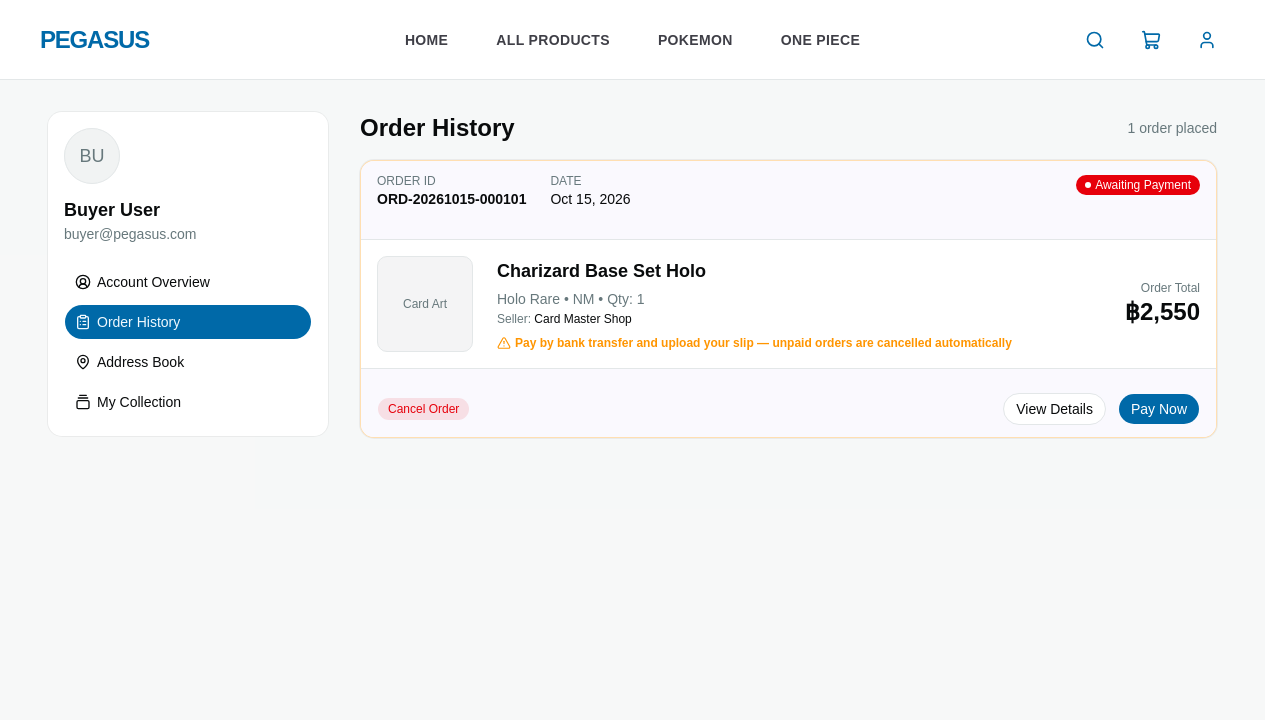
Scenario: Core Account Orders Flow › cancels a pending order with confirmation
Expected: the text "ORD-20261015-000101" is shown, [377,189,526,209]
// Click Cancel Order
Click the button "Cancel Order" at (424, 409), box [377,397,470,421]
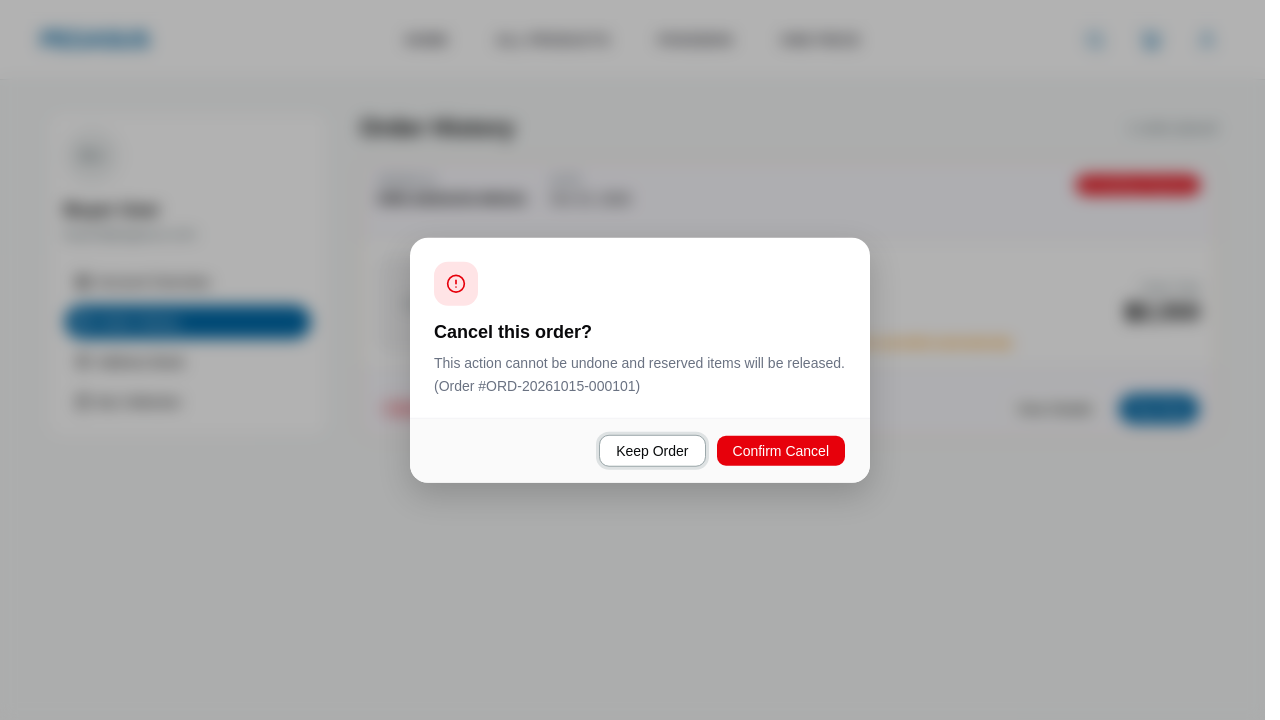
Now the heading "Cancel this order?" is shown, box [434,322,592,342]
Click the button "Confirm Cancel" at (782, 450), box [716,434,847,466]
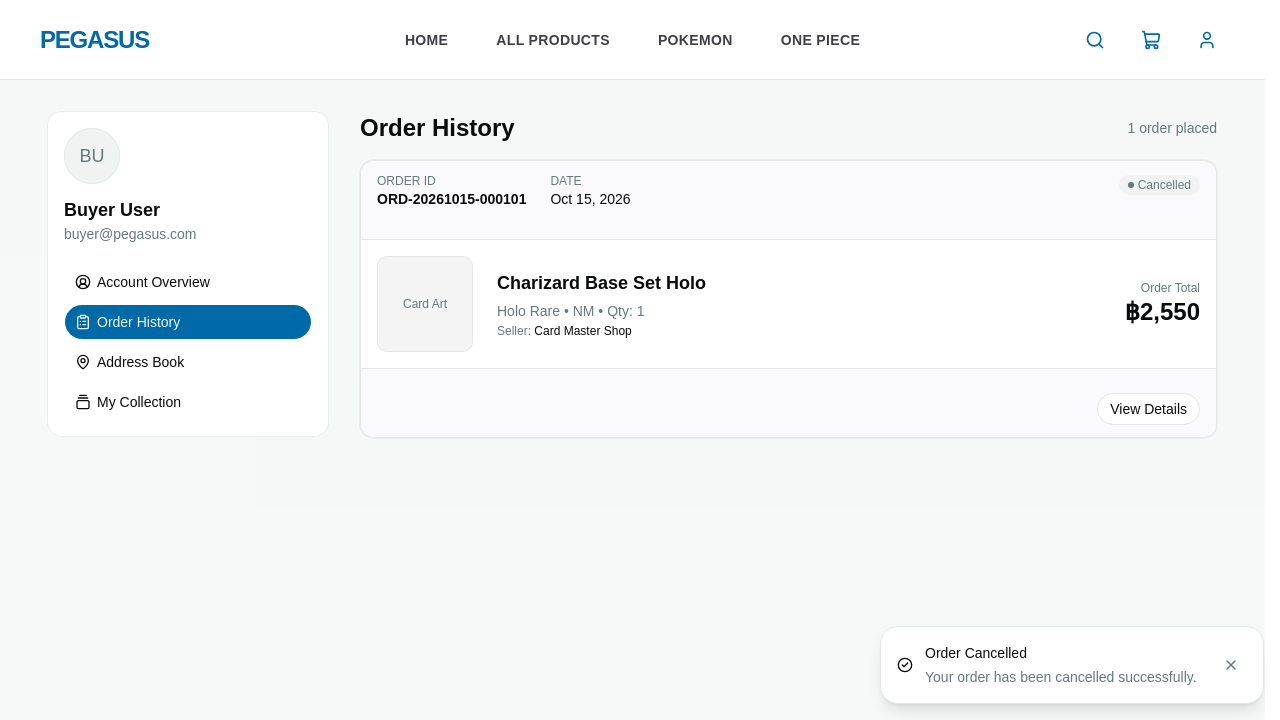
Now the heading "Order Cancelled" is shown, box [925,645,1027,661]
